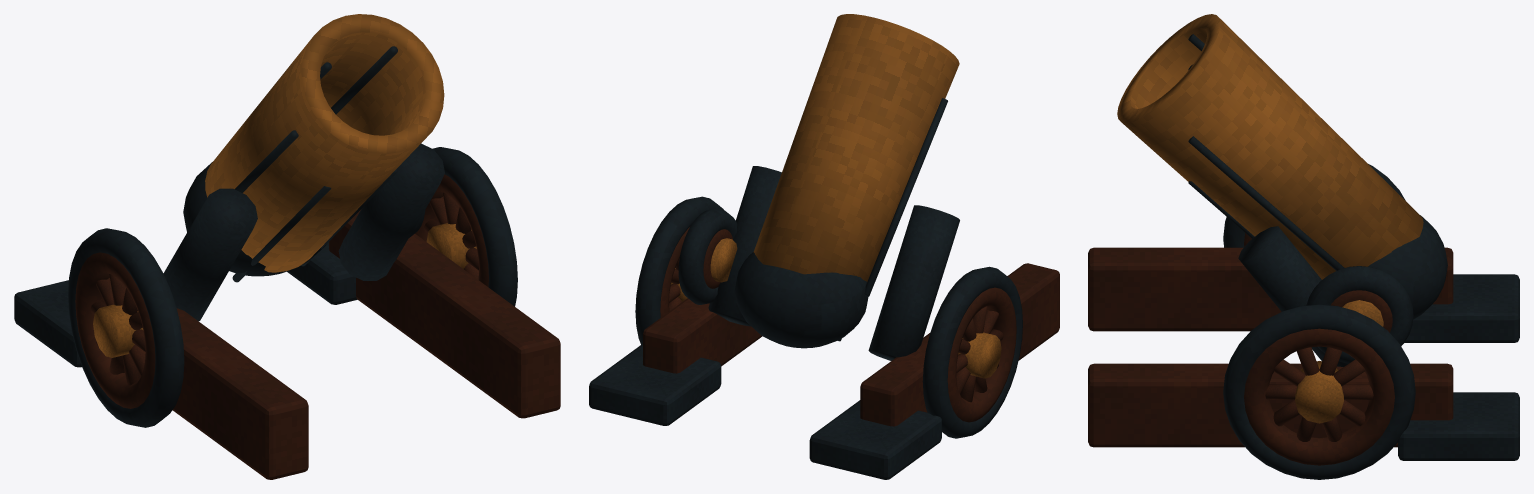
Rendered from mortar-1.glb.
The picture shows the model from 3 angles, left to right: view 1: azimuth 30°, elevation 25°; view 2: azimuth 150°, elevation 25°; view 3: azimuth 270°, elevation 25°; orthographic projection. The views are drawn at different scales.
Visible parts, largest first — view 1: Turret_Bound heartwood, Carriage_Antique brass, Turret_Blue iron, Carriage_Blue iron, Turret_Antique brass; view 2: Turret_Blue iron, Carriage_Antique brass, Turret_Bound heartwood, Carriage_Blue iron, Winch_Blue iron, Turret_Antique brass, Winch_Antique brass, Winch_Bound heartwood; view 3: Turret_Bound heartwood, Carriage_Antique brass, Turret_Blue iron, Carriage_Blue iron, Winch_Blue iron, Turret_Antique brass, Winch_Bound heartwood, Winch_Antique brass.
Part boxes in pixels (box(x1,y1,x2,y2)): Turret_Bound heartwood: box(75, 174, 560, 479); Carriage_Antique brass: box(205, 14, 444, 272); Turret_Blue iron: box(14, 143, 517, 427); Carriage_Blue iron: box(183, 46, 397, 282); Turret_Antique brass: box(93, 223, 476, 357); Turret_Blue iron: box(589, 166, 1022, 479); Carriage_Antique brass: box(753, 14, 959, 281); Turret_Bound heartwood: box(643, 227, 1059, 426); Carriage_Blue iron: box(734, 98, 947, 348); Winch_Blue iron: box(678, 208, 737, 304); Turret_Antique brass: box(670, 268, 1001, 378); Winch_Antique brass: box(710, 238, 737, 282); Winch_Bound heartwood: box(703, 229, 732, 288); Turret_Bound heartwood: box(1088, 233, 1453, 465); Carriage_Antique brass: box(1117, 14, 1423, 279); Turret_Blue iron: box(1223, 164, 1519, 479); Carriage_Blue iron: box(1188, 34, 1447, 319); Winch_Blue iron: box(1306, 266, 1413, 363); Turret_Antique brass: box(1295, 361, 1343, 423); Winch_Bound heartwood: box(1331, 290, 1392, 332); Winch_Antique brass: box(1342, 300, 1383, 326).
Bounding box in the file's own units: 1.84 × 1.89 × 1.95.
3 materials, 3 textured.
